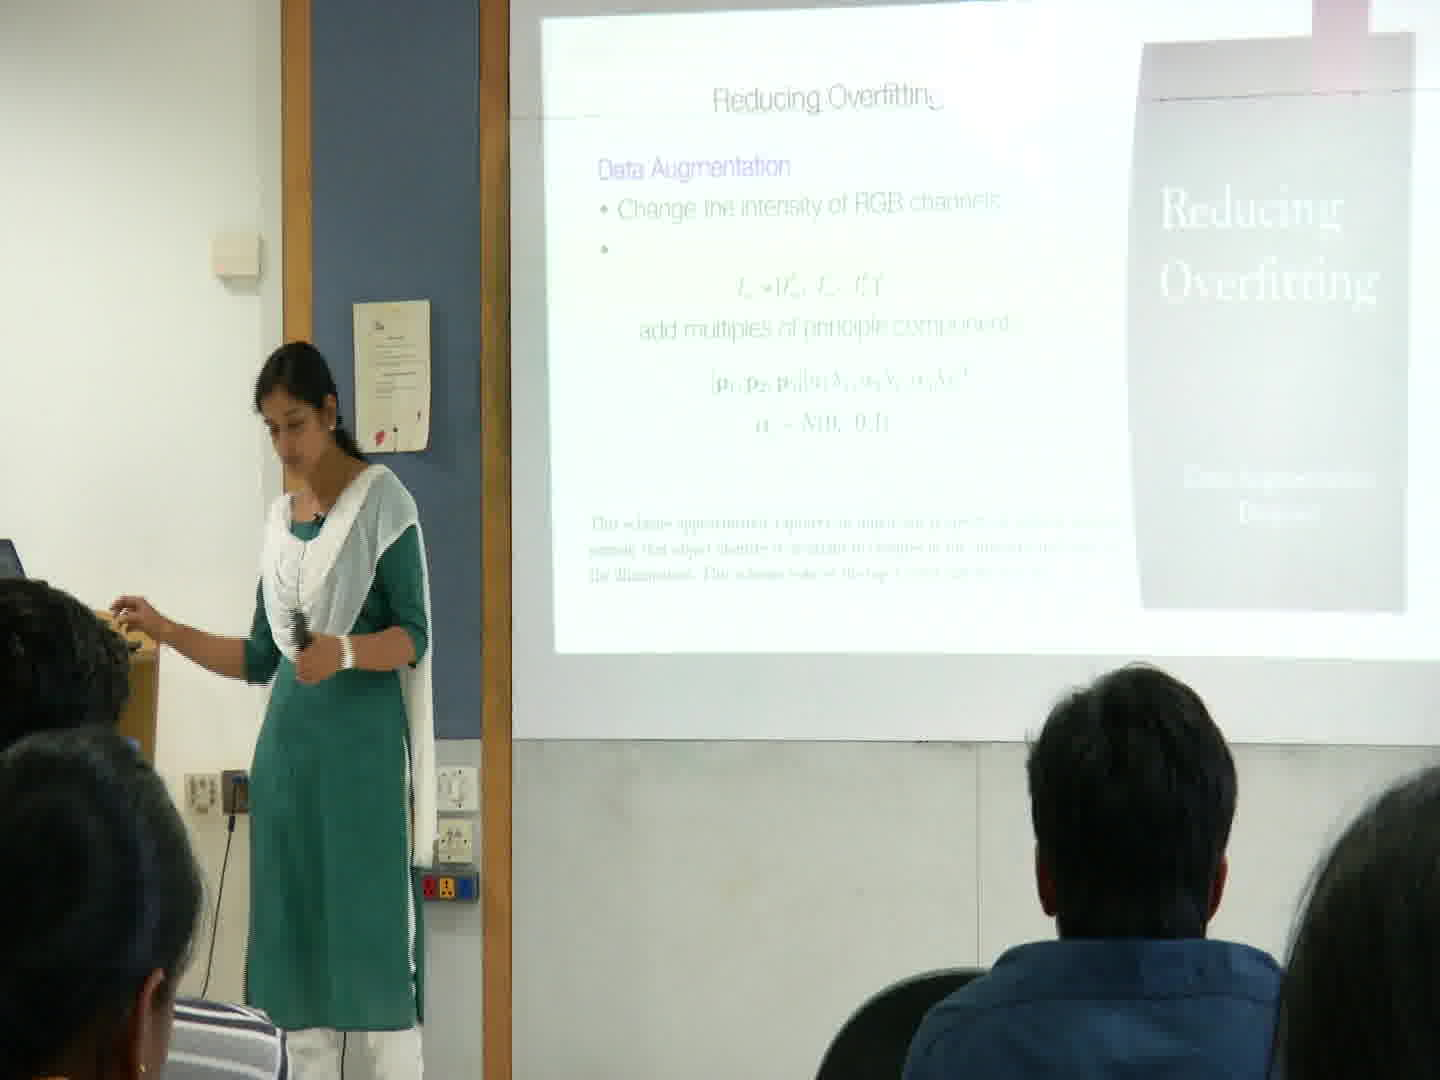eq: (700, 358, 973, 400), (727, 263, 895, 306), (749, 408, 898, 439)
